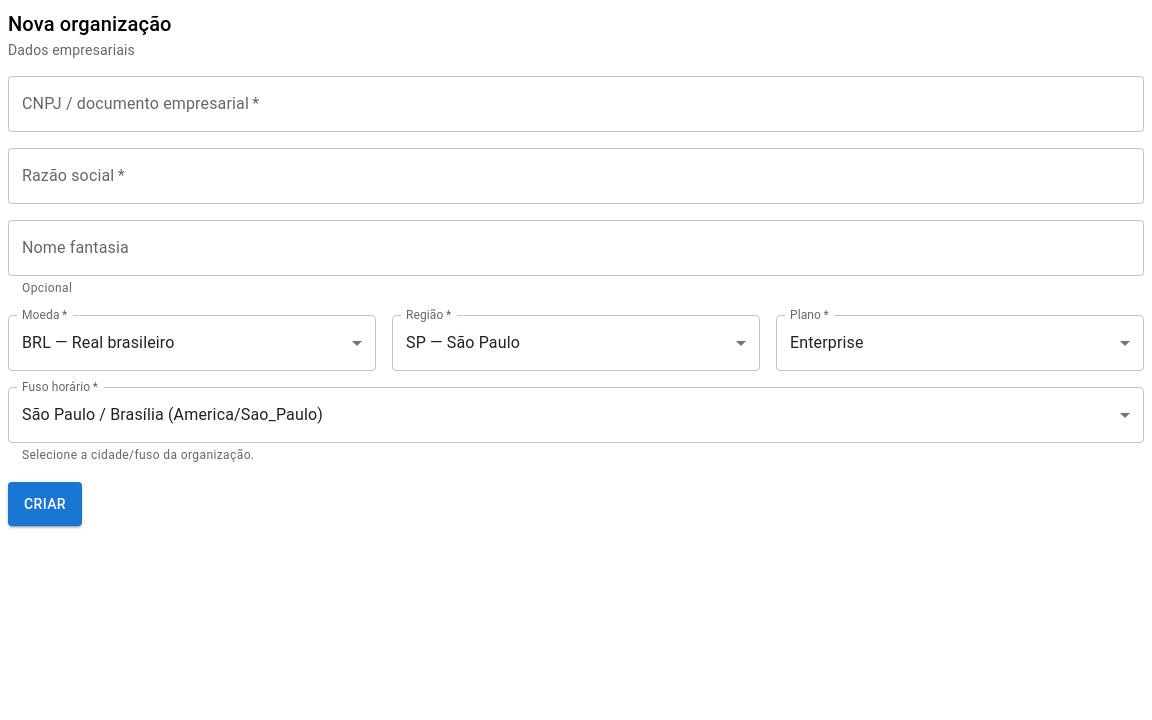
it: OrganizationForm › bloqueia o envio do CNPJ inválido 11.111.111/1111-11, destaca o campo e permite corrigir
In the field labelled "CNPJ / documento empresarial": (576, 104) [8,76,1144,132], type "11.111.111/1111-11"
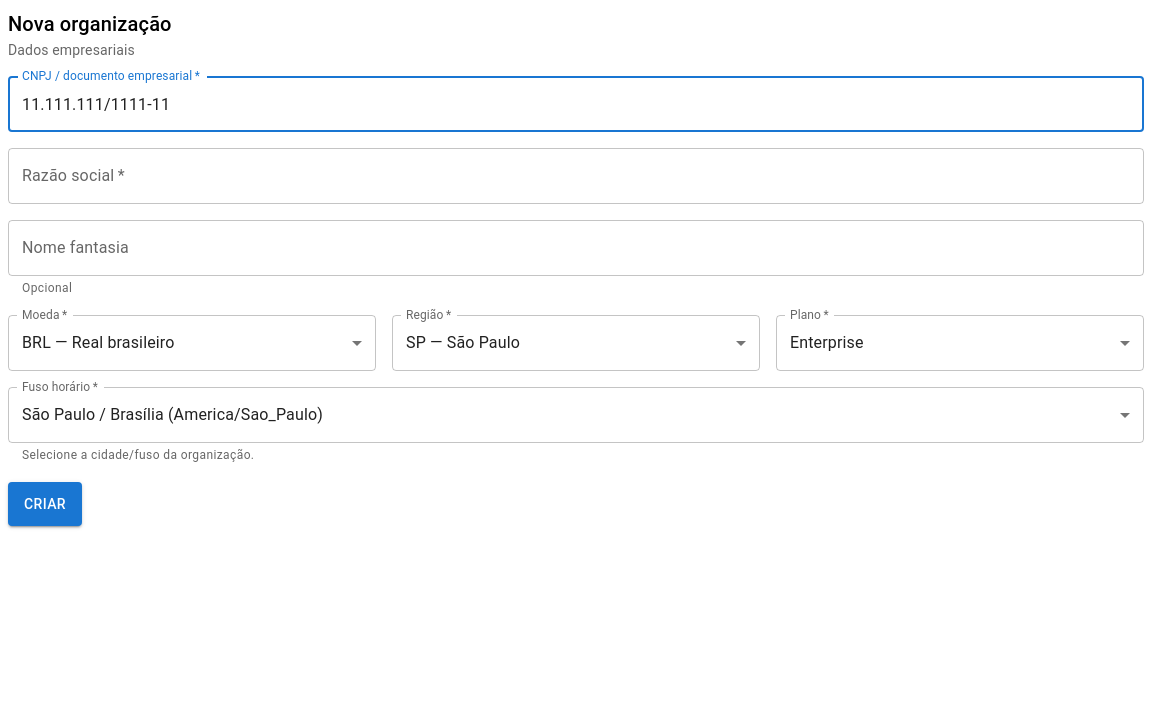
In the field labelled "Razão social": (576, 176) [8,148,1144,204], type "Empresa de teste"
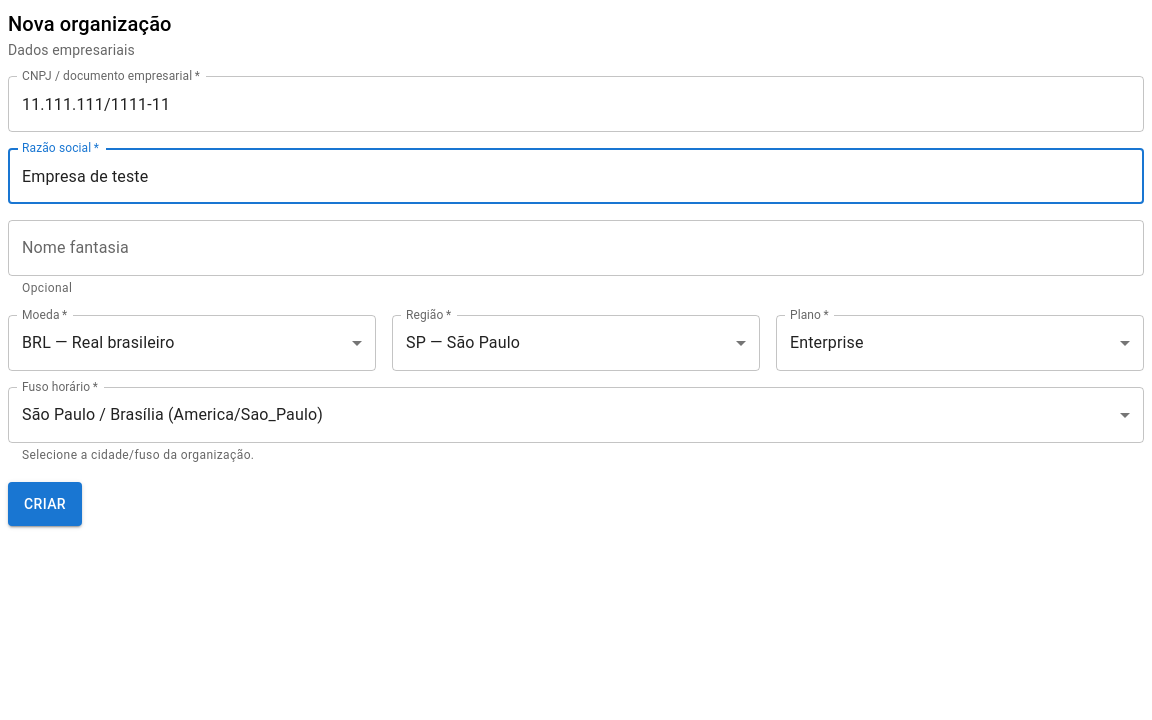
Click the button "Criar": click(45, 504) [8,482,82,526]
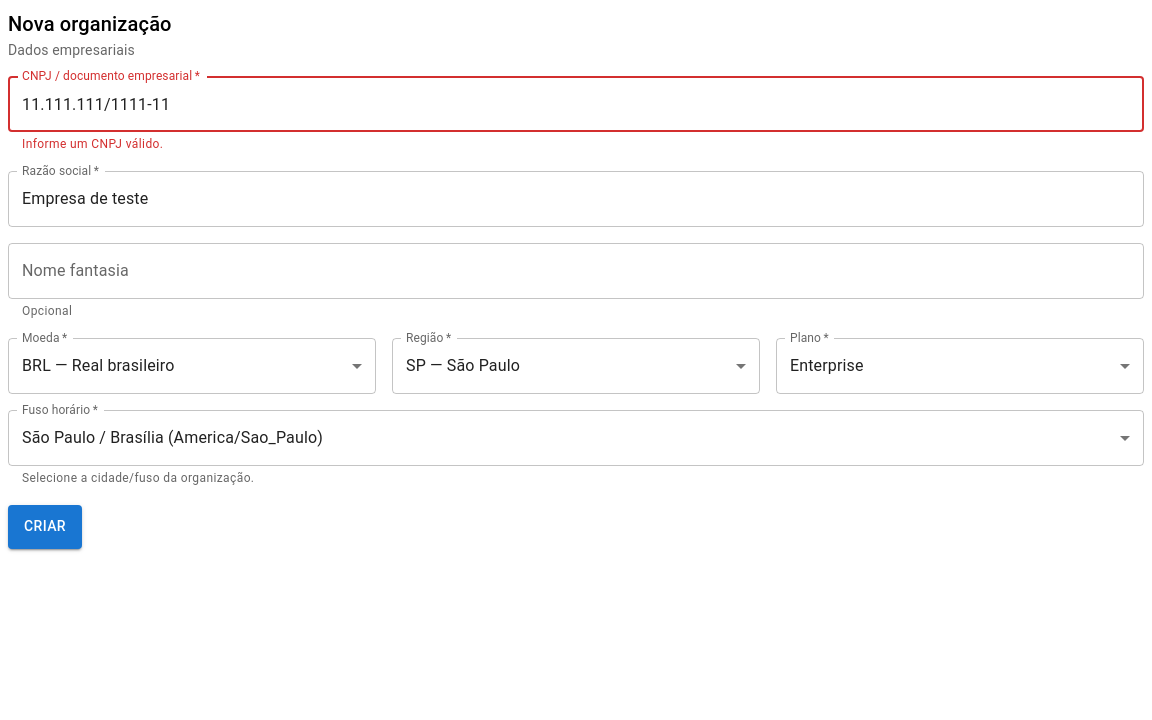
Check: the text "Informe um CNPJ válido." is shown, box [22,137,163,151]
Replace the text in the field labelled "CNPJ / documento empresarial" with "12345678000195": (576, 104) [8,76,1144,132]
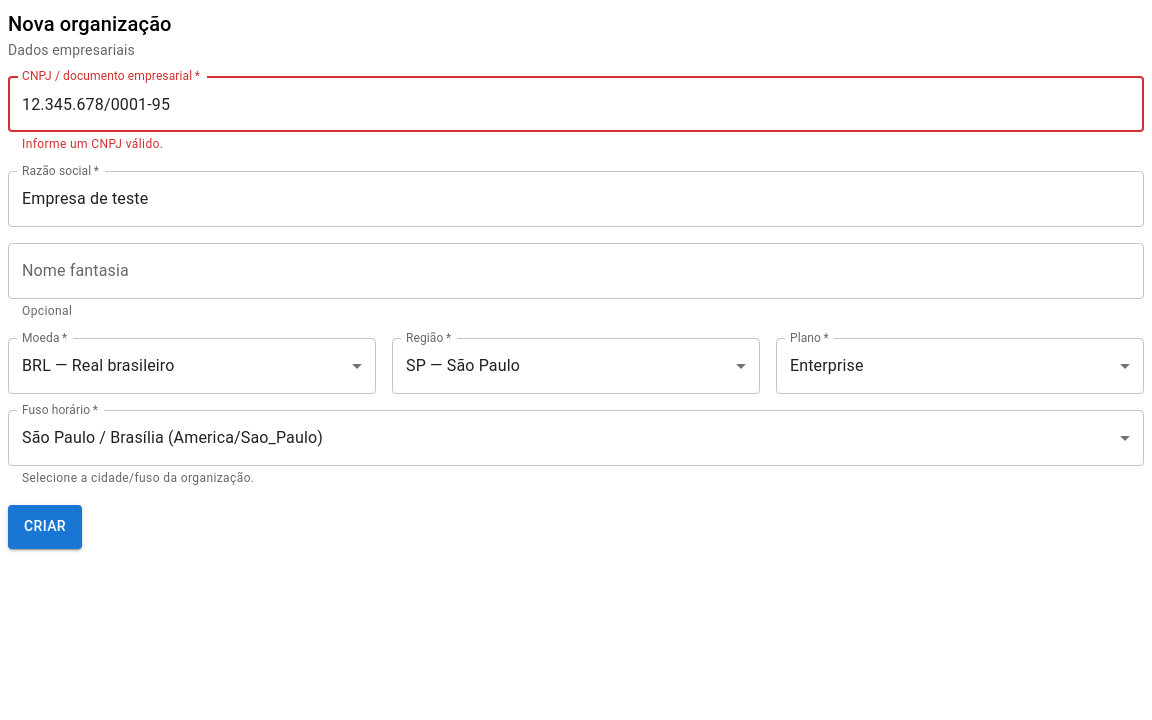
Click the button "Criar": click(45, 527) [8,505,82,549]
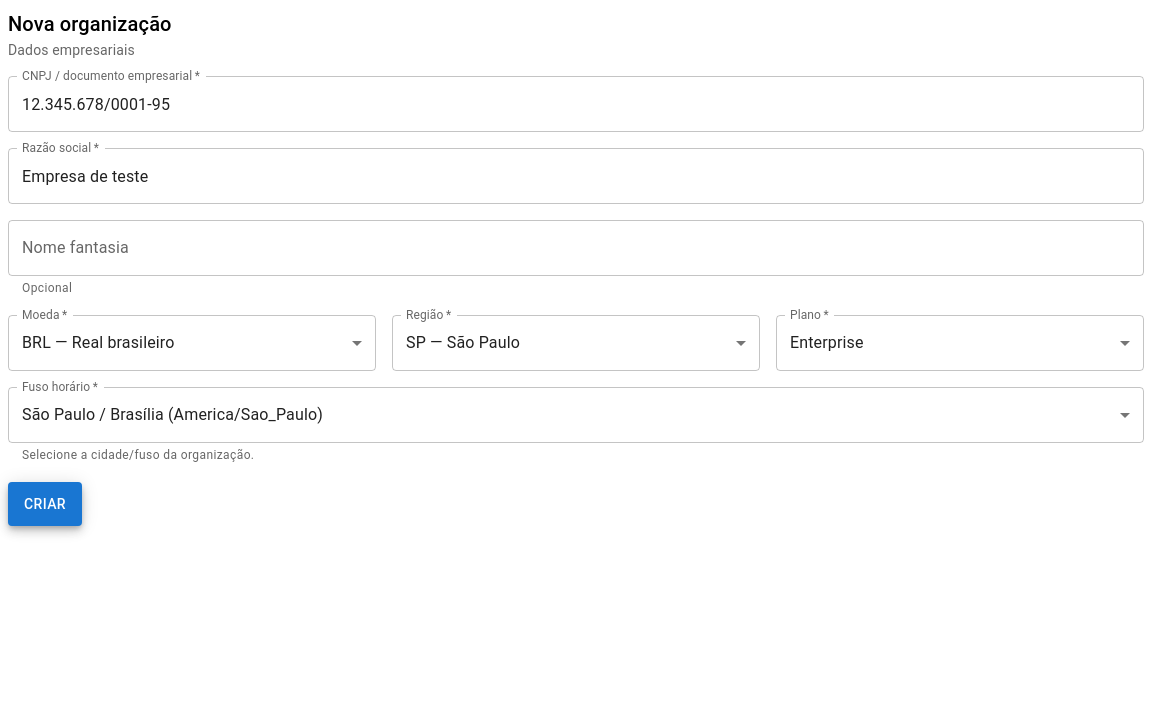
Check: the text "Informe um CNPJ válido." is gone
